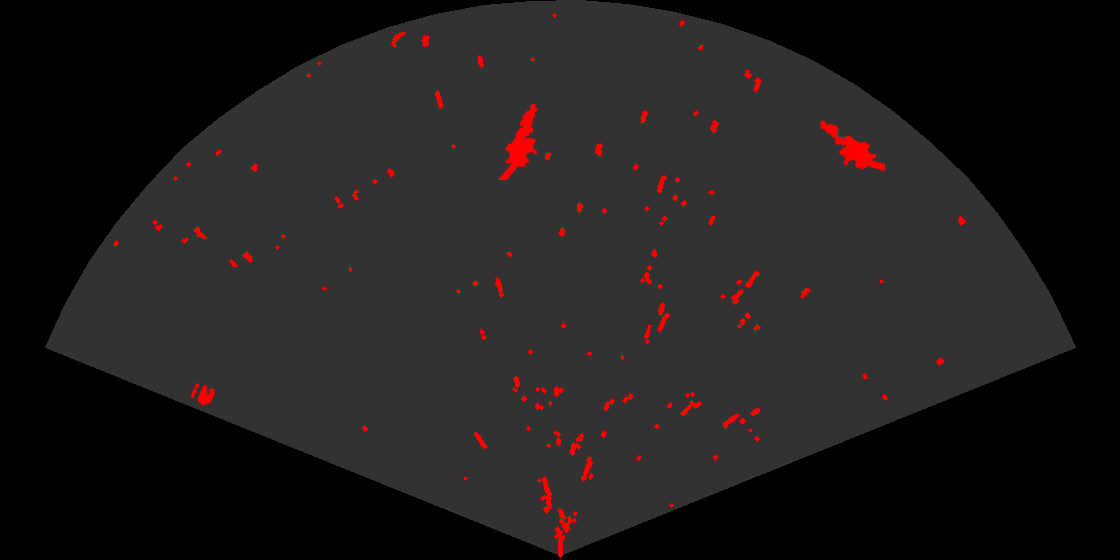ball: (189, 381, 217, 407)
frogman: (818, 119, 885, 173), (496, 102, 539, 180)
